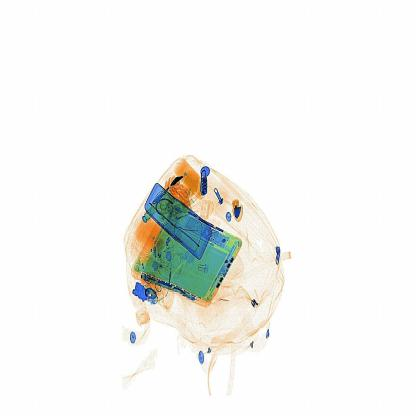wrench: (227, 193, 246, 232)
